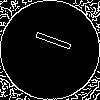I: (25, 25, 73, 54)
